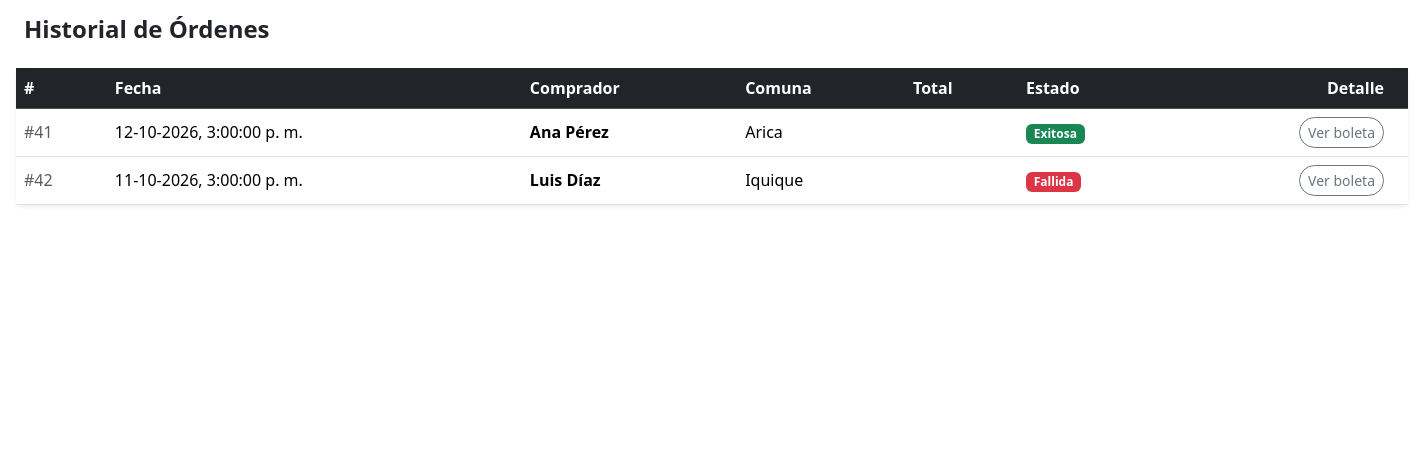
Test: AdminOrdenes › "Ocultar" cierra el detalle
The width and height of the screenshot is (1425, 451).
Expected: the text "Ana Pérez" is shown, [522, 108, 737, 156]
Click the button "Ver boleta" in the row of "41".
click(1342, 132)  # box [1299, 117, 1384, 148]
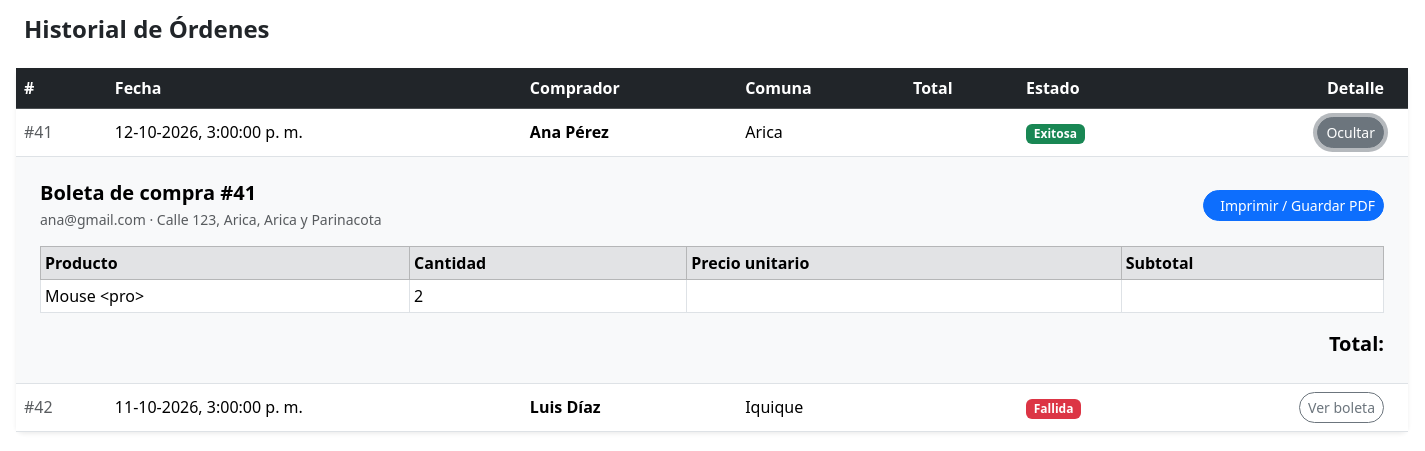
Expected: the heading "Boleta de compra #41" is shown, [40, 179, 256, 206]
Click the button "Ocultar".
click(1351, 132)  # box [1317, 117, 1384, 148]
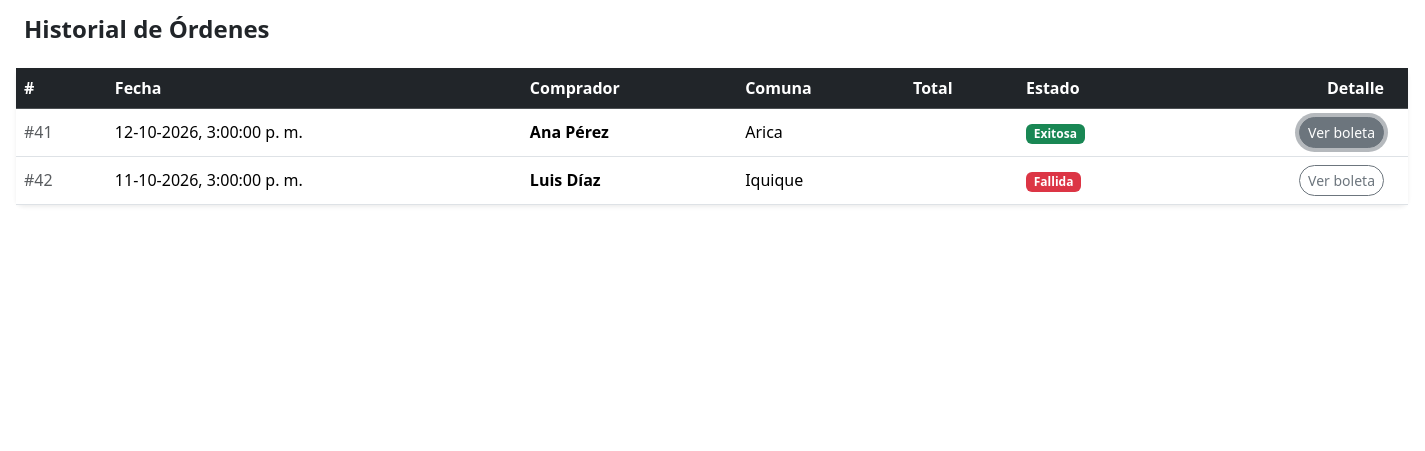
Expected: the heading "Boleta de compra #41" is gone
